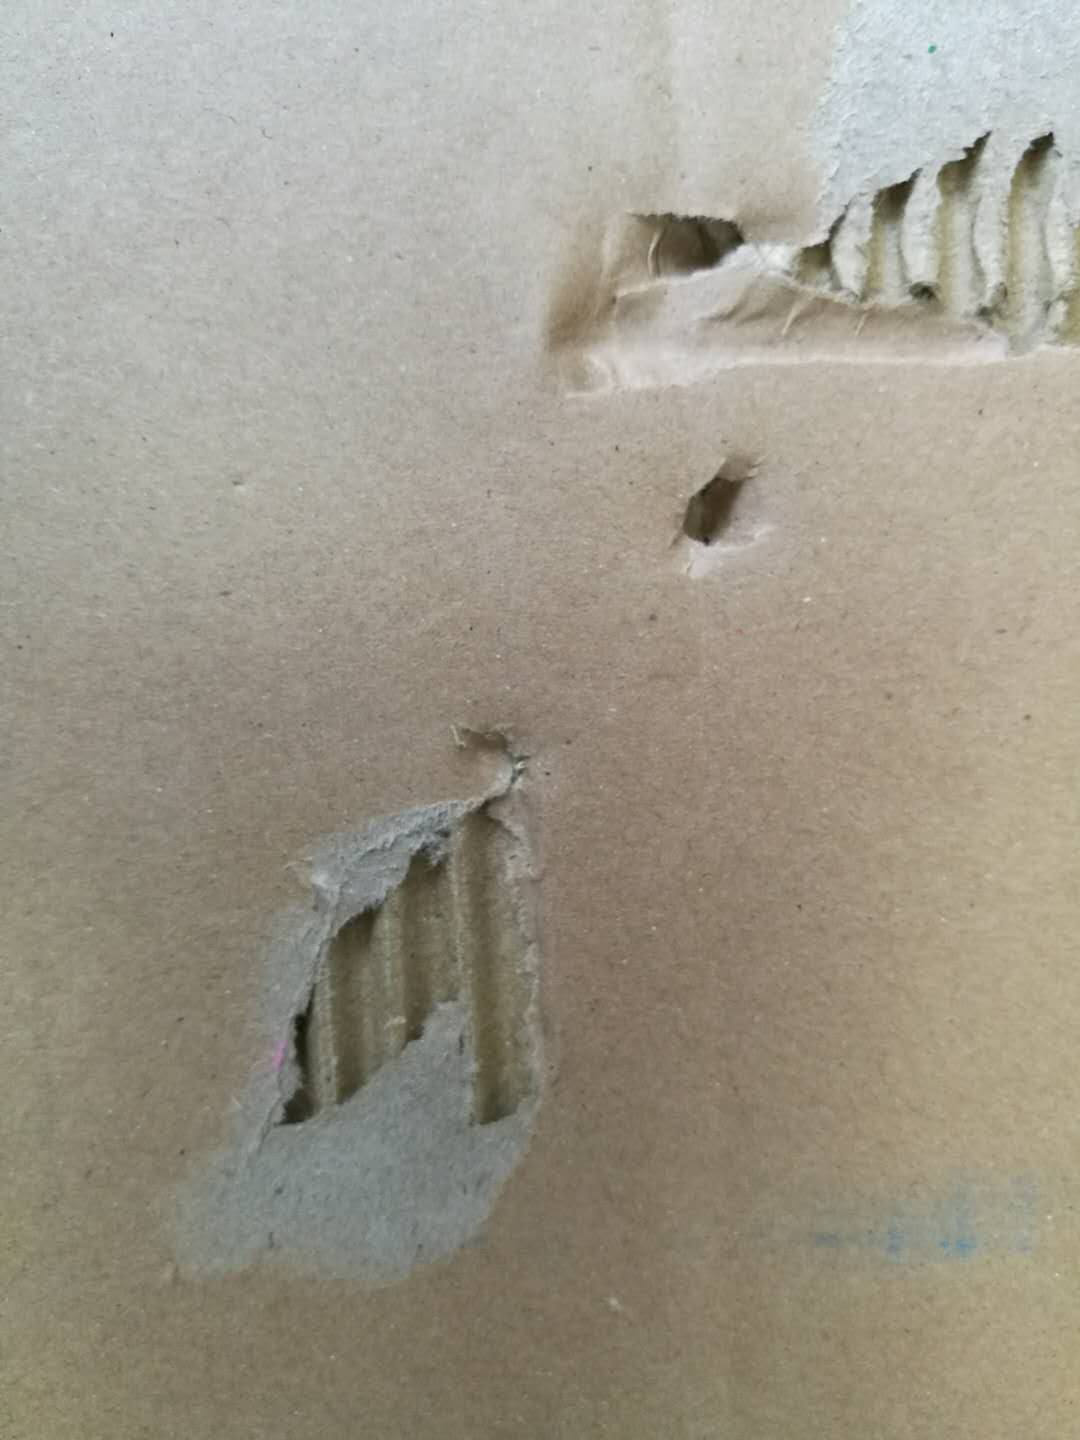defect: (102, 687, 628, 1325), (493, 5, 1080, 410), (646, 435, 805, 585)
